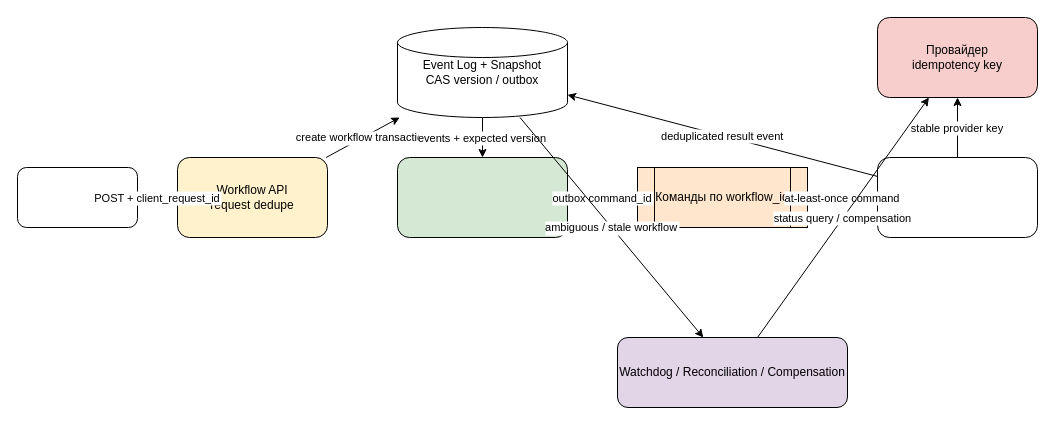
Some shapes in this 1055 by 425 pixel diagram are drawn without their labels. Each missing label, with the centre of its shape:
"Worker Inbox + local Outbox" belongs at (957,197).
"Клиент" belongs at (77,197).
"Оркестратор state machine + fencing" belongs at (482,197).
